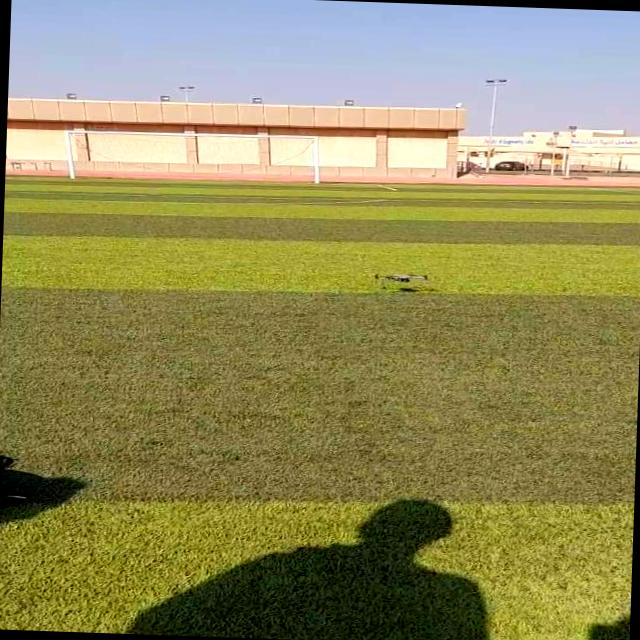drone: (364, 266, 432, 288)
